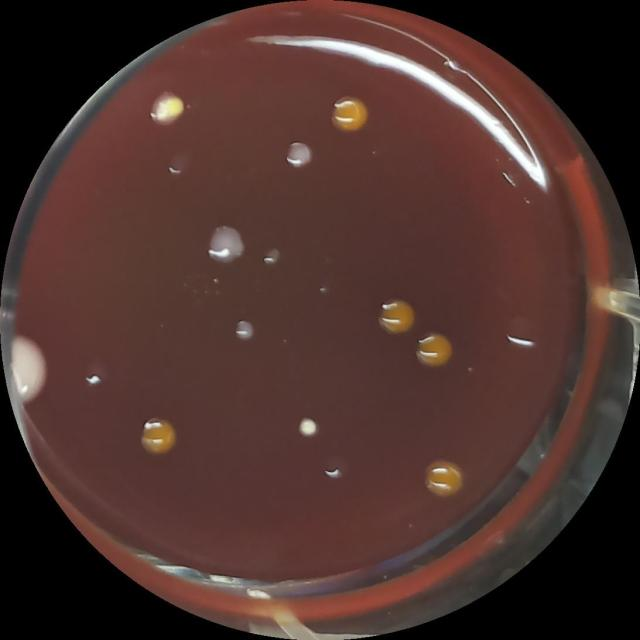Staphylococcus: (296, 416, 318, 439)
